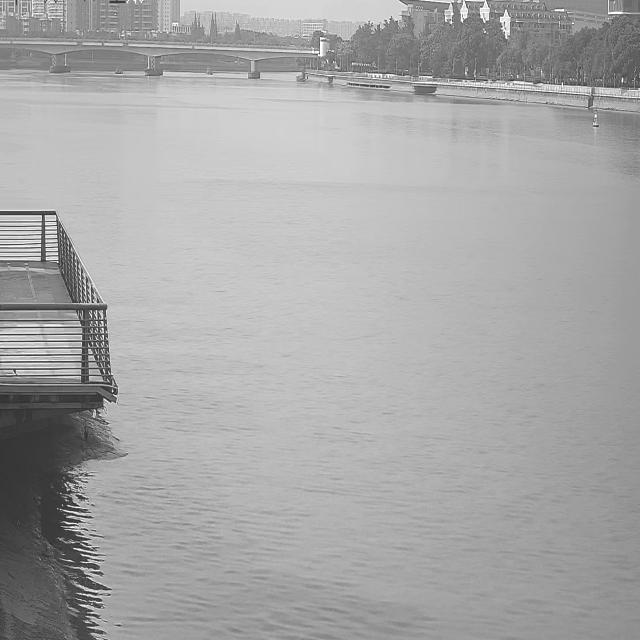ship: (114, 64, 122, 72), (206, 65, 212, 74)
